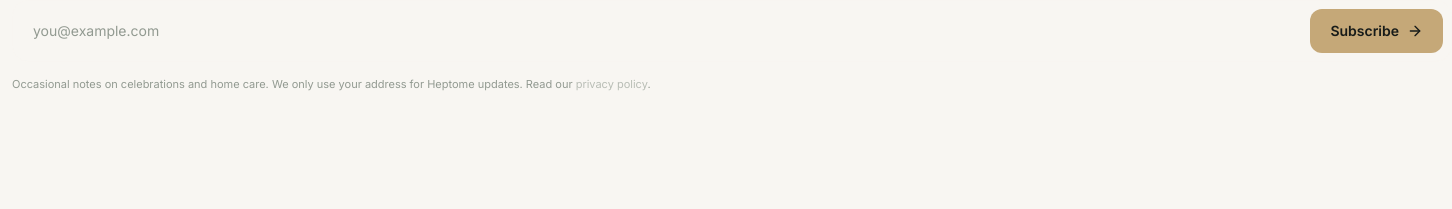
Test: FooterNewsletter › lets the visitor subscribe another address after success
Type "reader@example.com" into the field named "Email address" at (662, 31), box [21,9,1302,53]
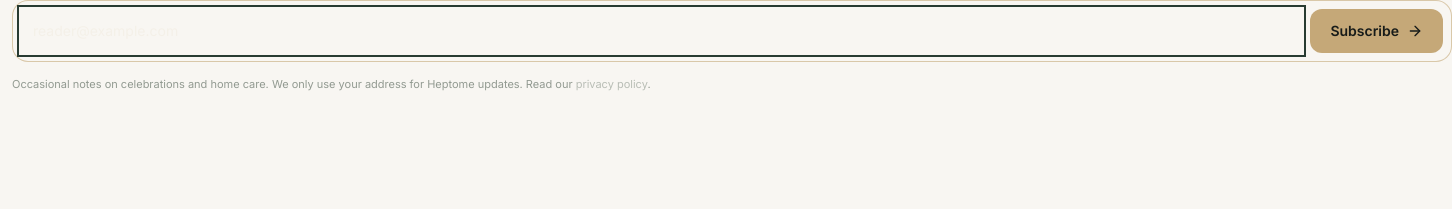
Click the button "Subscribe" at (1377, 31), box [1310,9,1443,53]
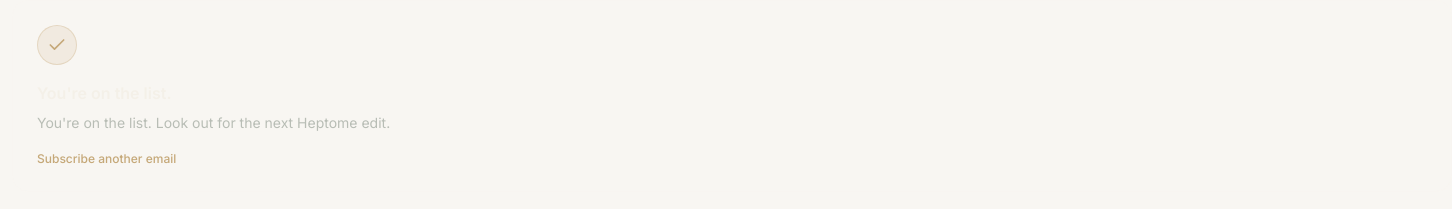
Check: the message is shown
Click the button "Subscribe another email" at (107, 159), box [37,151,176,167]
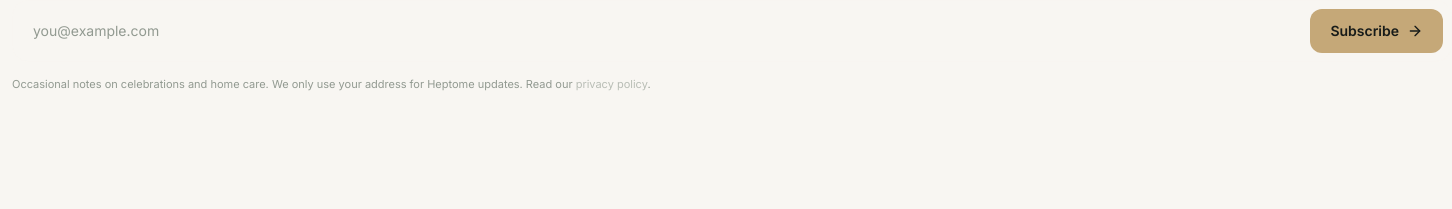
Check: the button "Subscribe" is shown, box [1310,9,1443,53]
Check: the field named "Email address" is empty, box [21,9,1302,53]
